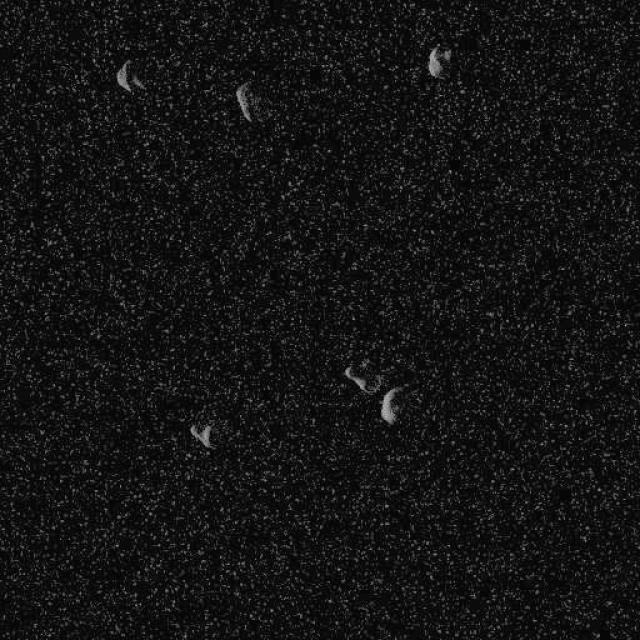D2: (342, 360, 382, 394), (115, 58, 146, 94), (378, 384, 404, 425), (426, 44, 452, 78), (234, 80, 255, 122), (189, 420, 216, 450)
